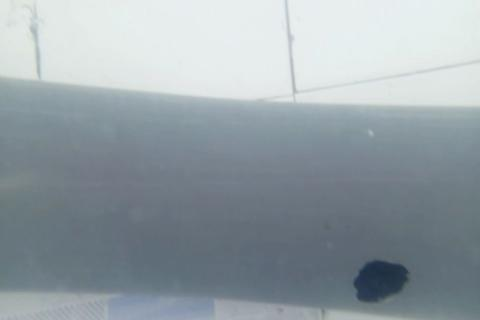kebocoran: (351, 257, 412, 305)
